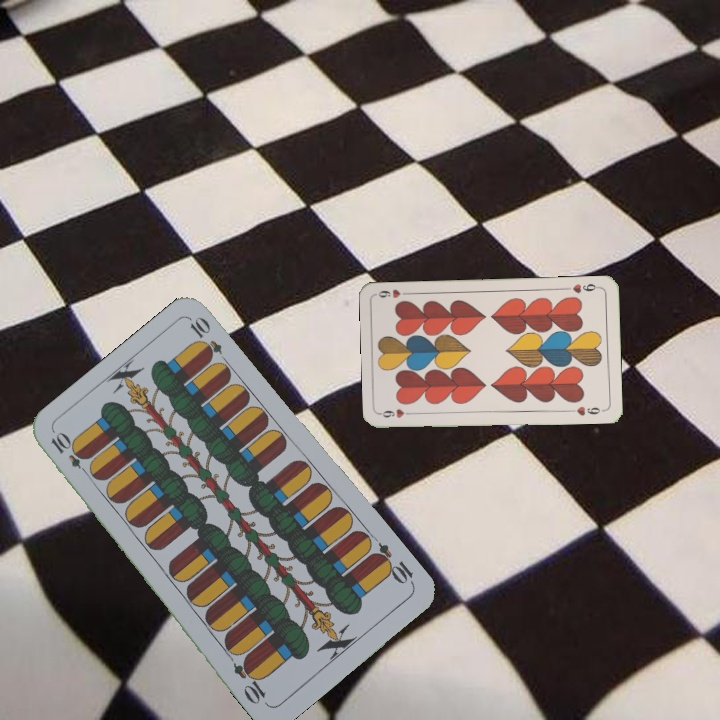E10: (367, 539, 417, 588), (46, 429, 94, 479)
H9: (377, 405, 418, 421), (569, 279, 603, 296)
